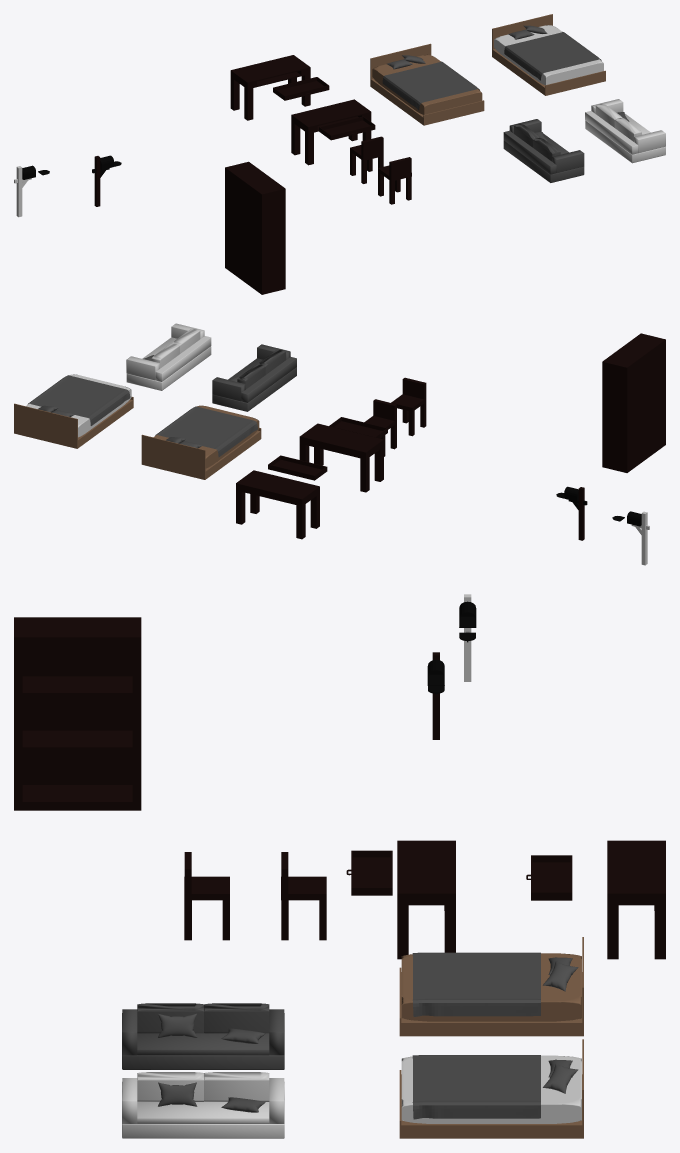
Rendered from sofa.obj.
The picture shows the model from 3 angles, top to bottom: view 1: azimuth 30°, elevation 25°; view 2: azimuth 150°, elevation 25°; view 3: azimuth 270°, elevation 25°; orthographic projection. The views are drawn at different scales.
Visible parts, largest first — view 1: Cube, metrise.001, Cube.032, Plane, Cube.013, metrise, Cube.001, bed02, Cube.006, Cube.020, Cube.025, Cube.023 (+5 smaller); view 2: Cube, metrise.001, Cube.032, Cube.013, Plane, bed01, Cube.001, bed02, Cube.020, Cube.025, Cube.023, metrise (+7 smaller); view 3: Cube, metrise.001, Cube.032, Plane, Cube.013, Cube.001, metrise, bed, Cube.024, Cube.023, bed02, Cube.020 (+5 smaller).
Part boxes in pixels (box(x1,y1,x2,y2)): Cube: box(225, 161, 285, 294); metrise.001: box(492, 14, 605, 95); Cube.032: box(585, 99, 665, 163); Plane: box(382, 61, 479, 110); Cube.013: box(230, 55, 310, 120); metrise: box(372, 54, 482, 114); Cube.001: box(291, 99, 371, 133); bed02: box(378, 157, 411, 204); Cube.006: box(319, 116, 375, 140); Cube.020: box(273, 77, 329, 100); Cube.025: box(503, 130, 556, 174); Cube.023: box(503, 141, 584, 182); Cube: box(602, 333, 665, 472); metrise.001: box(14, 374, 133, 448); Cube.032: box(126, 323, 211, 390); Cube.013: box(236, 470, 319, 539); Plane: box(155, 406, 257, 457); bed01: box(141, 434, 205, 479); Cube.001: box(299, 423, 383, 459); bed02: box(391, 377, 426, 436); Cube.020: box(268, 455, 327, 480); Cube.025: box(241, 357, 296, 402); Cube.023: box(212, 367, 296, 411); metrise: box(153, 405, 259, 468); Cube: box(14, 617, 141, 810); metrise.001: box(399, 1039, 583, 1138); Cube.032: box(122, 1072, 284, 1138); Plane: box(412, 952, 540, 1016); Cube.013: box(607, 840, 665, 959); Cube.001: box(397, 840, 455, 905); metrise: box(401, 953, 581, 1021); bed: box(401, 972, 582, 1036); Cube.024: box(137, 1033, 269, 1055); Cube.023: box(122, 1032, 284, 1069); bed02: box(184, 852, 229, 940); Cube.020: box(526, 855, 572, 900).
Bounding box in the file's own units: 46.52 × 7.8 × 26.61.
